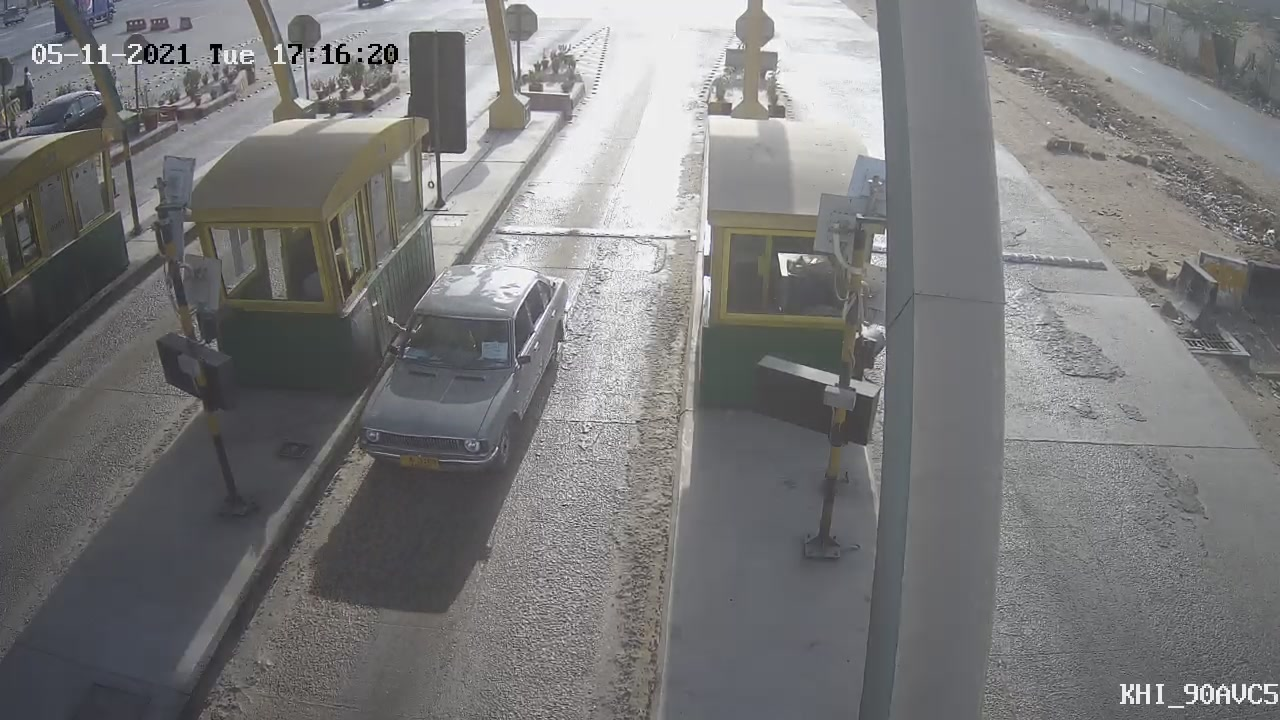F1: (324, 242, 586, 495)
